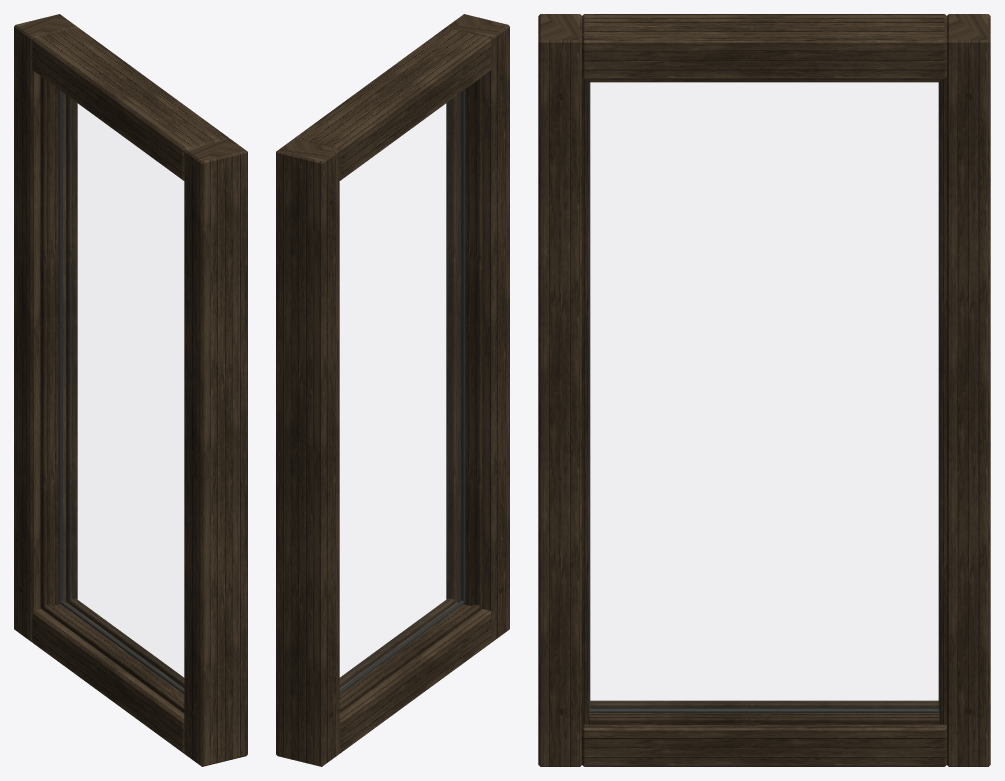
The picture shows the model from 3 angles, left to right: view 1: azimuth 30°, elevation 25°; view 2: azimuth 150°, elevation 25°; view 3: azimuth 270°, elevation 25°; orthographic projection. The views are drawn at different scales.
Parts seen in each view (by area): view 1: Mesh_JoinedTimberAndGlazingStops, Mesh_RecessedWeatherSeal; view 2: Mesh_JoinedTimberAndGlazingStops, Mesh_RecessedWeatherSeal; view 3: Mesh_JoinedTimberAndGlazingStops, Mesh_RecessedWeatherSeal.
Part boxes in pixels (<box>): Mesh_JoinedTimberAndGlazingStops: <box>14,14,247,766</box>; Mesh_RecessedWeatherSeal: <box>58,89,184,693</box>; Mesh_JoinedTimberAndGlazingStops: <box>276,14,509,766</box>; Mesh_RecessedWeatherSeal: <box>339,89,465,693</box>; Mesh_JoinedTimberAndGlazingStops: <box>538,14,990,766</box>; Mesh_RecessedWeatherSeal: <box>589,82,939,712</box>.
Bounding box in the file's own units: 0.182 × 2.2 × 1.24.
3 materials, 1 textured.
